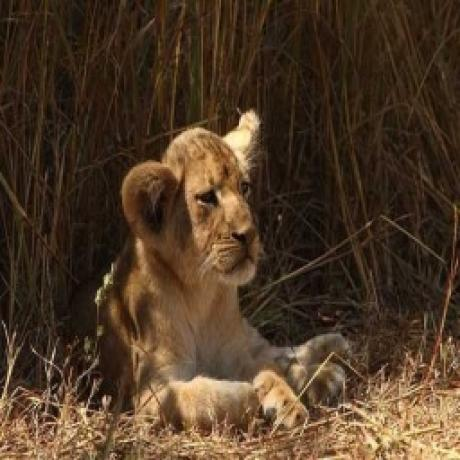Lion: (64, 109, 354, 430)
